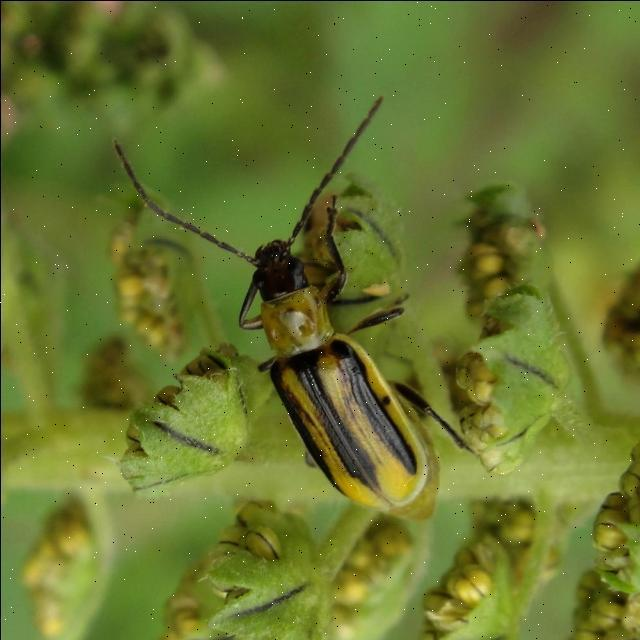trips: (110, 94, 490, 520)
